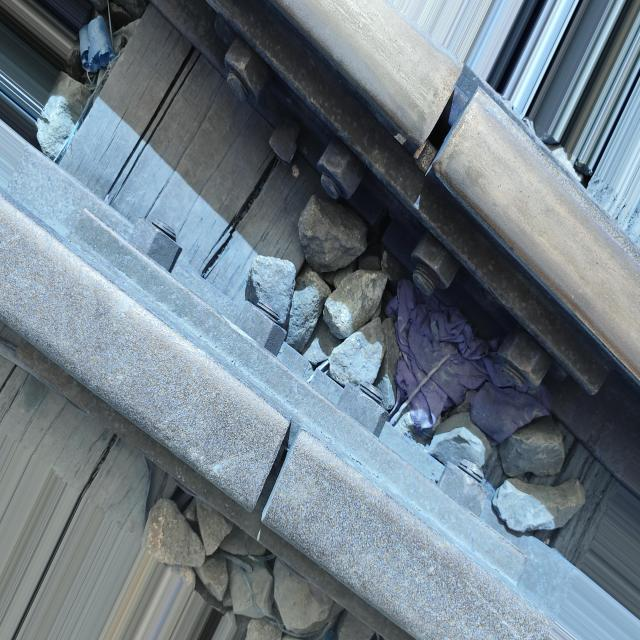crack: (224, 404, 326, 552), (394, 50, 498, 192)
